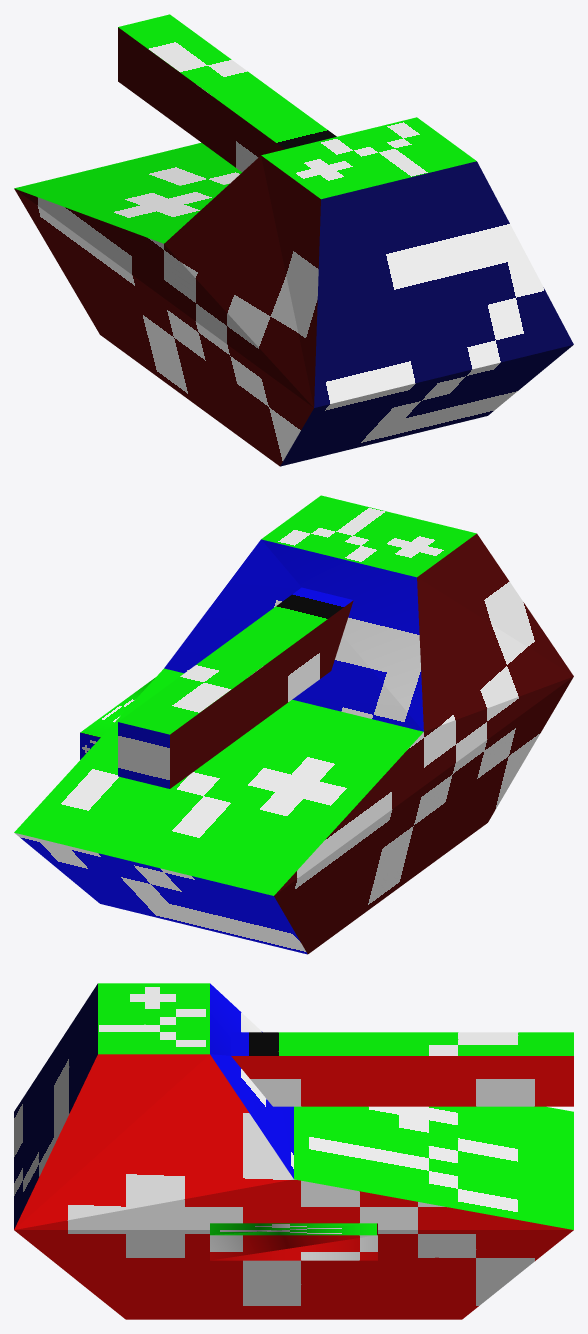
Rendered from heavytank2-z+y.obj.
3 renders of one model, top to bottom at view 1: azimuth 30°, elevation 25°; view 2: azimuth 150°, elevation 25°; view 3: azimuth 270°, elevation 25°, orthographic. The views are drawn at different scales.
Visible parts, largest first — view 1: Cube; view 2: Cube; view 3: Cube.
Boxes of the visible parts, x1,y1,x2,y2 form: Cube: [14, 14, 573, 466]; Cube: [14, 495, 573, 954]; Cube: [14, 983, 573, 1319].
Size of the model in its own units: 1.15 by 1 by 2.
